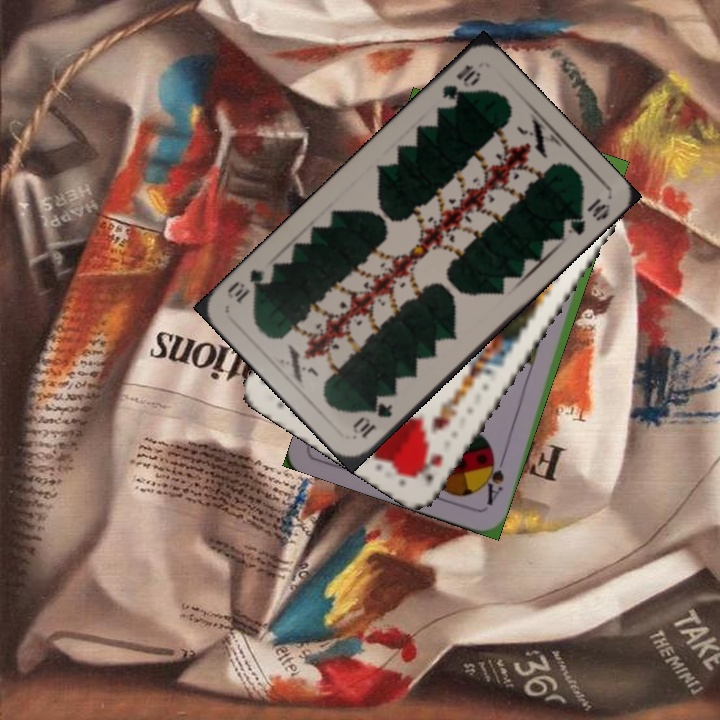G10: (438, 60, 484, 105), (348, 398, 396, 441)
HK: (412, 449, 446, 486)
SA: (479, 450, 507, 508)
